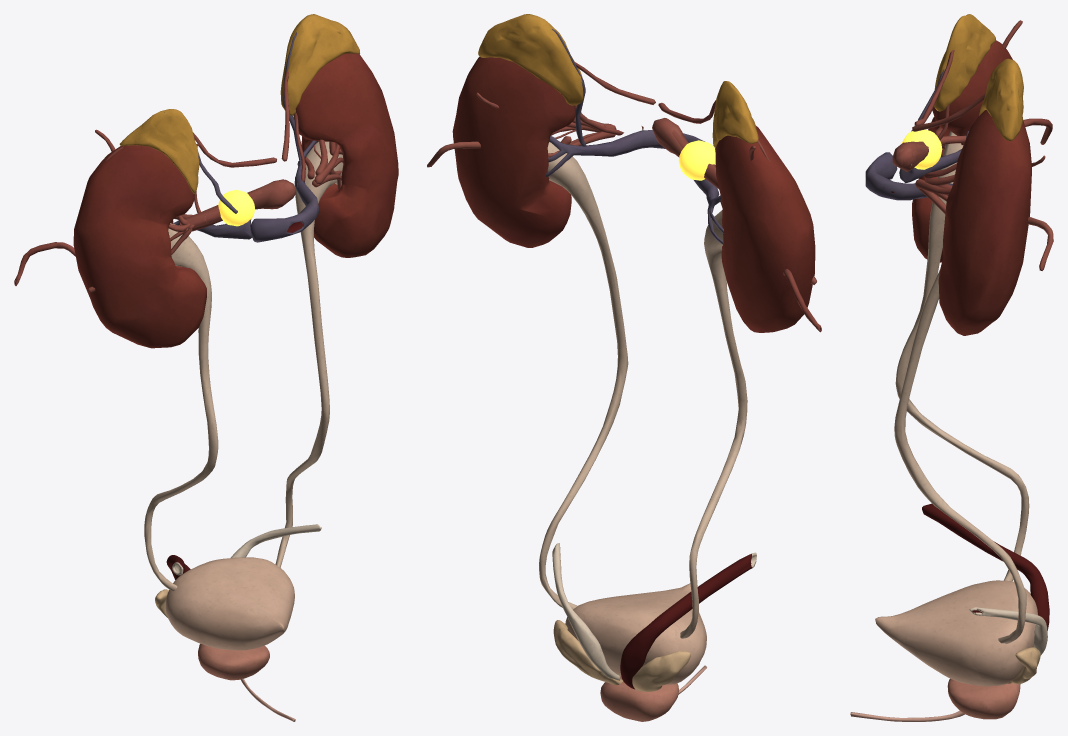
File: tour-urine.20cbc96d.glb
3 views of the same model, side by side, from view 1: azimuth 30°, elevation 25°; view 2: azimuth 150°, elevation 25°; view 3: azimuth 270°, elevation 25° (orthographic). The views are drawn at different scales.
Parts seen in each view (by area): view 1: Kidney_Kidney_Right, Kidney_Kidney_Left, Bladder_UrinaryBladder, Urinary_Ureter_Left, Urinary_Ureter_Right, Kidney_AdrenalGland_Left, Kidney_AdrenalGland_Right, Vessel_RenalVein_Left, Bladder_Prostate, Vessel_TrunkOfRenalArtery_Right, UrineDrop, Bladder_DeferentDuct_Left (+2 smaller); view 2: Kidney_Kidney_Left, Kidney_Kidney_Right, Bladder_UrinaryBladder, Urinary_Ureter_Left, Kidney_AdrenalGland_Left, Urinary_Ureter_Right, Bladder_DeferentDuct_Right, Bladder_Prostate, Kidney_AdrenalGland_Right, Vessel_RenalVein_Left, Bladder_DeferentDuct_Left, Bladder_SeminalVesicle_Right (+4 smaller); view 3: Kidney_Kidney_Left, Bladder_UrinaryBladder, Urinary_Ureter_Left, Urinary_Ureter_Right, Kidney_Kidney_Right, Kidney_AdrenalGland_Right, Kidney_AdrenalGland_Left, Bladder_Prostate, Bladder_DeferentDuct_Right, Vessel_RenalVein_Left, Bladder_DeferentDuct_Left, UrineDrop (+8 smaller).
Boxes of the visible parts, x1=… form: Kidney_Kidney_Right: x1=73, y1=145, x2=206, y2=348; Kidney_Kidney_Left: x1=293, y1=53, x2=398, y2=257; Bladder_UrinaryBladder: x1=165, y1=557, x2=294, y2=650; Urinary_Ureter_Left: x1=275, y1=141, x2=343, y2=567; Urinary_Ureter_Right: x1=144, y1=223, x2=218, y2=591; Kidney_AdrenalGland_Left: x1=280, y1=14, x2=359, y2=115; Kidney_AdrenalGland_Right: x1=119, y1=109, x2=199, y2=193; Vessel_RenalVein_Left: x1=250, y1=140, x2=319, y2=242; Bladder_Prostate: x1=198, y1=643, x2=269, y2=680; Vessel_TrunkOfRenalArtery_Right: x1=189, y1=179, x2=294, y2=226; UrineDrop: x1=218, y1=189, x2=254, y2=226; Bladder_DeferentDuct_Left: x1=230, y1=524, x2=321, y2=557; Kidney_Kidney_Left: x1=452, y1=56, x2=575, y2=247; Kidney_Kidney_Right: x1=715, y1=126, x2=815, y2=332; Bladder_UrinaryBladder: x1=565, y1=583, x2=706, y2=684; Urinary_Ureter_Left: x1=539, y1=142, x2=628, y2=609; Kidney_AdrenalGland_Left: x1=478, y1=14, x2=583, y2=105; Urinary_Ureter_Right: x1=680, y1=210, x2=747, y2=638; Bladder_DeferentDuct_Right: x1=620, y1=552, x2=756, y2=689; Bladder_Prostate: x1=600, y1=676, x2=678, y2=721; Kidney_AdrenalGland_Right: x1=712, y1=81, x2=758, y2=147; Vessel_RenalVein_Left: x1=545, y1=130, x2=704, y2=176; Bladder_DeferentDuct_Left: x1=552, y1=543, x2=620, y2=680; Bladder_SeminalVesicle_Right: x1=632, y1=651, x2=690, y2=691; Kidney_Kidney_Left: x1=938, y1=110, x2=1031, y2=335; Bladder_UrinaryBladder: x1=875, y1=580, x2=1037, y2=686; Urinary_Ureter_Left: x1=894, y1=269, x2=1026, y2=643; Urinary_Ureter_Right: x1=895, y1=131, x2=1029, y2=581; Kidney_Kidney_Right: x1=912, y1=40, x2=1012, y2=262; Kidney_AdrenalGland_Right: x1=934, y1=14, x2=995, y2=111; Kidney_AdrenalGland_Left: x1=979, y1=58, x2=1023, y2=141; Bladder_Prostate: x1=947, y1=678, x2=1020, y2=719; Bladder_DeferentDuct_Right: x1=922, y1=503, x2=1049, y2=630; Vessel_RenalVein_Left: x1=865, y1=152, x2=952, y2=200; Bladder_DeferentDuct_Left: x1=969, y1=607, x2=1047, y2=655; UrineDrop: x1=902, y1=129, x2=942, y2=169.
Size of the model in its own units: 0.202 by 0.339 by 0.0881.
Materials: 8 (5 with a texture image).
